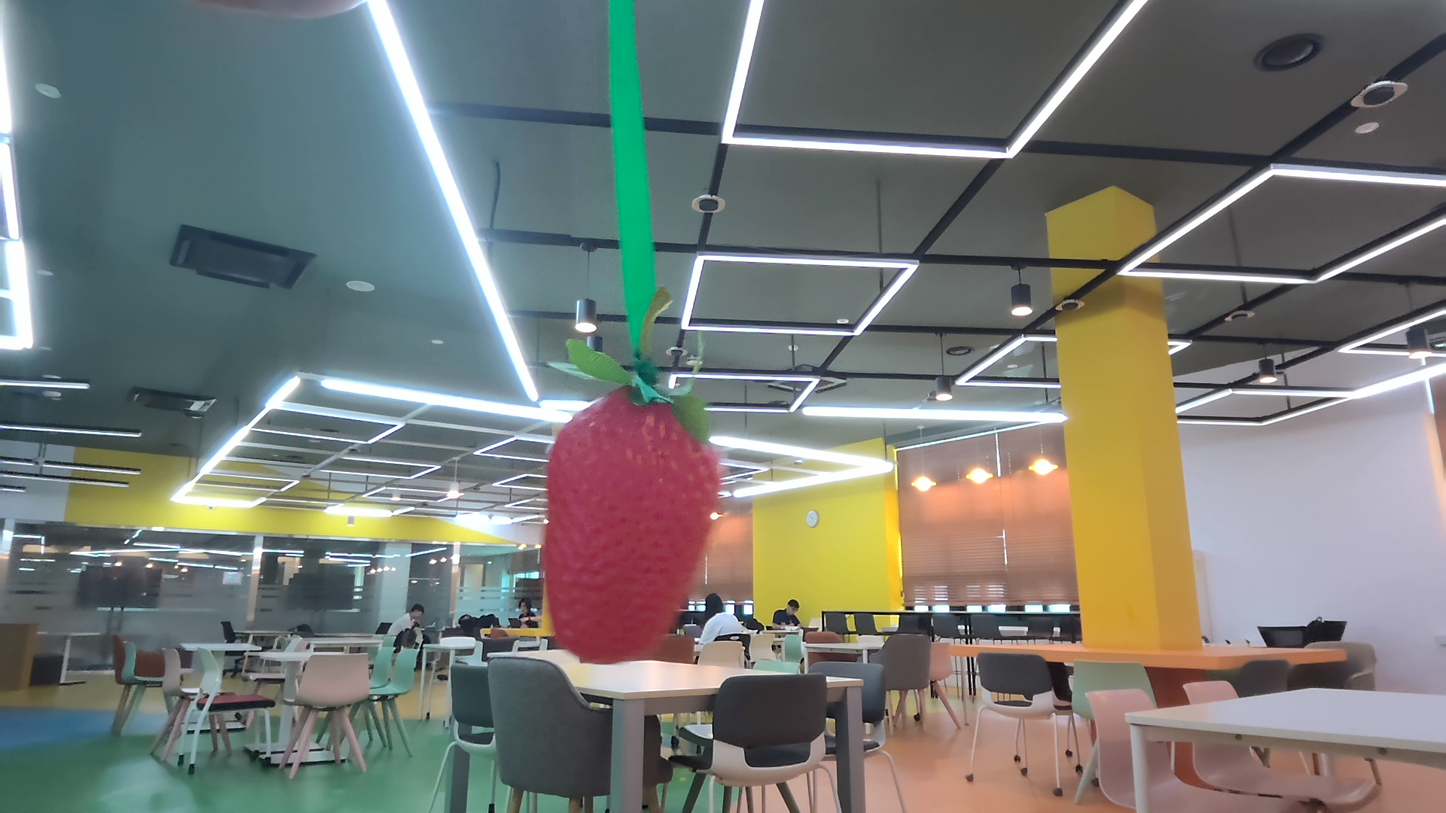strawberry: (537, 373, 724, 666)
